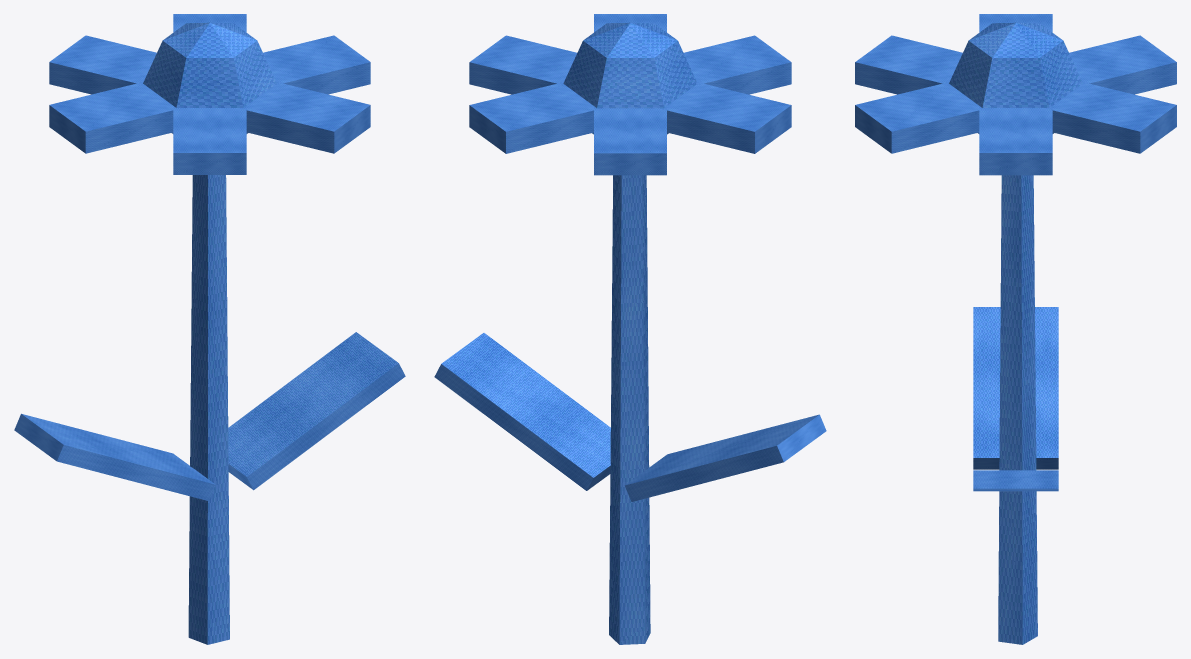
The model's file is flor_azul.glb.
The picture shows the model from 3 angles, left to right: view 1: azimuth 30°, elevation 25°; view 2: azimuth 150°, elevation 25°; view 3: azimuth 270°, elevation 25°; orthographic projection.
Parts seen in each view (by area): view 1: flor_azul; view 2: flor_azul; view 3: flor_azul.
Part boxes in pixels (bbox=[...]): flor_azul: bbox=[14, 14, 405, 644]; flor_azul: bbox=[434, 14, 826, 644]; flor_azul: bbox=[855, 14, 1176, 644].
Bounding box in the file's own units: 0.3306 × 0.555 × 0.2638.
1 material, 1 textured.
